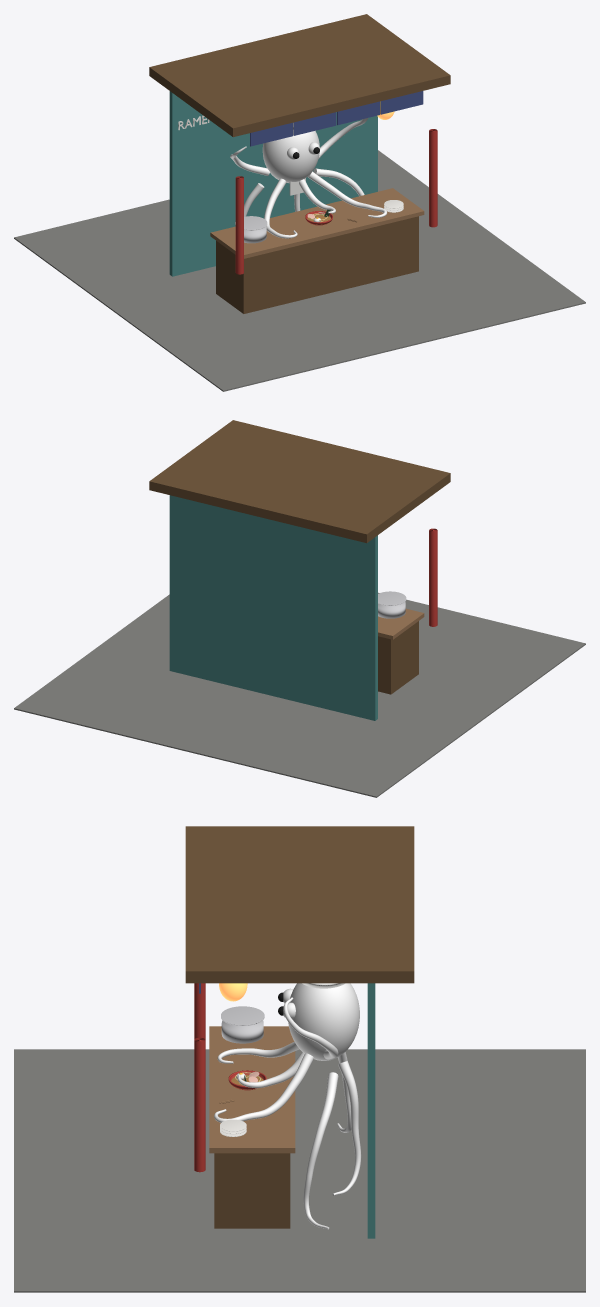
File: octopus_chef_ramen_booth.glb
The picture shows the model from 3 angles, top to bottom: view 1: azimuth 30°, elevation 25°; view 2: azimuth 150°, elevation 25°; view 3: azimuth 270°, elevation 25°; orthographic projection. The views are drawn at different scales.
Parts seen in each view (by area): view 1: Floor, Roof, BackWall, CounterBase, CounterTop, OctoMantle, PillarL, PillarR, Noren1, Noren3, ArmA_FrontRight, Noren0 (+2 smaller); view 2: Floor, BackWall, Roof, CounterBase, PillarL, CounterTop; view 3: Floor, Roof, CounterTop, CounterBase, OctoMantle, BackWall, PillarR, ArmF_DownRight, ArmH_DownBack, ArmA_FrontRight, StockPot, StockPotLid (+3 smaller).
Part boxes in pixels (box(x1,y1,x2,y2)): Floor: box(14, 150, 585, 391); Roof: box(149, 14, 450, 137); BackWall: box(169, 91, 377, 276); CounterBase: box(216, 216, 418, 313); CounterTop: box(210, 188, 424, 258); OctoMantle: box(262, 130, 319, 183); PillarL: box(235, 176, 243, 274); PillarR: box(429, 129, 437, 227); Noren1: box(293, 112, 336, 135); Noren3: box(380, 91, 423, 114); ArmA_FrontRight: box(307, 171, 387, 217); Noren0: box(250, 122, 292, 146); Floor: box(14, 592, 585, 797); BackWall: box(169, 495, 377, 720); Roof: box(149, 420, 450, 543); CounterBase: box(378, 621, 418, 694); PillarL: box(429, 528, 437, 626); CounterTop: box(378, 608, 424, 639); Floor: box(14, 1049, 585, 1292); Roof: box(185, 826, 414, 983); CounterTop: box(209, 1026, 295, 1153); CounterBase: box(214, 1153, 290, 1228); OctoMantle: box(288, 983, 359, 1060); BackWall: box(367, 983, 375, 1238); PillarR: box(194, 1037, 205, 1172); ArmF_DownRight: box(303, 1072, 338, 1229); ArmH_DownBack: box(332, 1061, 361, 1195); ArmA_FrontRight: box(214, 1053, 313, 1122); StockPot: box(221, 1020, 263, 1043); StockPotLid: box(221, 1006, 264, 1025).
Bounding box in the file's own units: 6 × 3.16 × 6.
